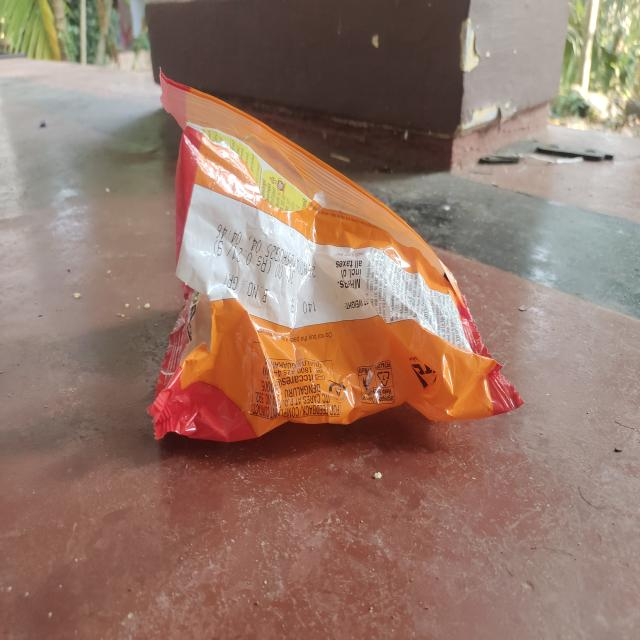plastic: (153, 66, 523, 422)
